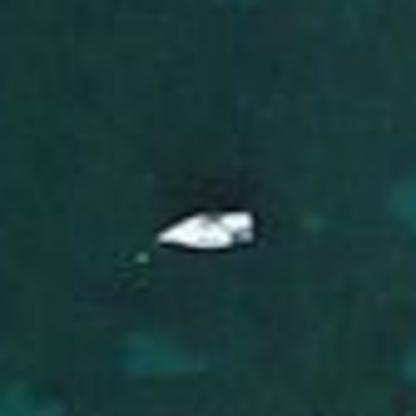ship: (128, 201, 270, 273)
